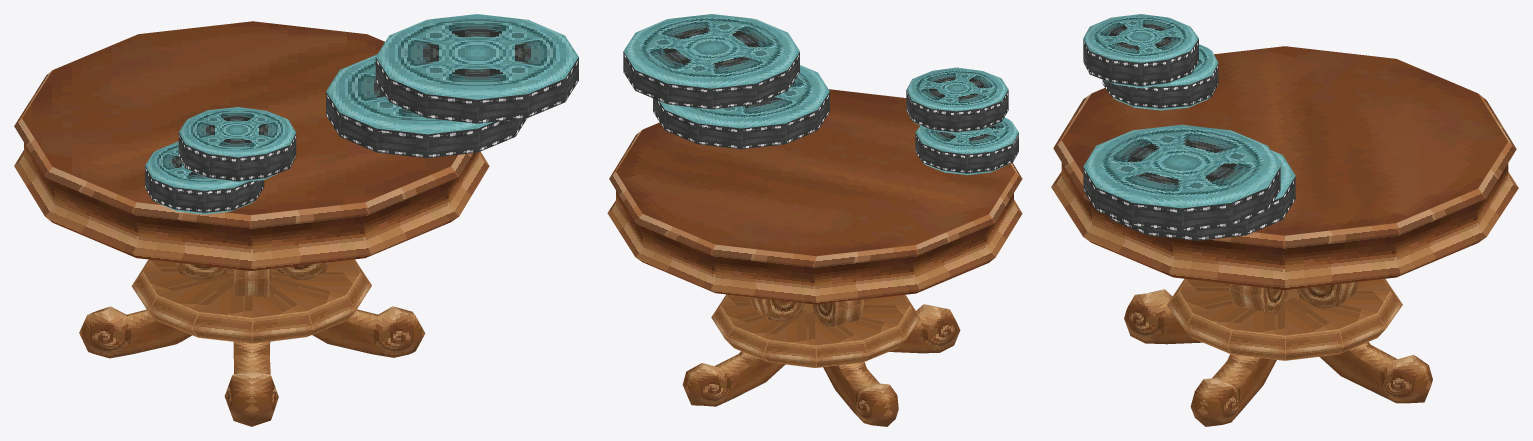
The model's file is desk13.glb.
3 renders of one model, left to right at view 1: azimuth 30°, elevation 25°; view 2: azimuth 150°, elevation 25°; view 3: azimuth 270°, elevation 25°, orthographic. The views are drawn at different scales.
Visible parts, largest first — view 1: desk13; view 2: desk13; view 3: desk13.
Boxes of the visible parts, bbox=[...] form: desk13: bbox=[14, 14, 578, 426]; desk13: bbox=[607, 14, 1022, 426]; desk13: bbox=[1051, 14, 1518, 426].
Size of the model in its own units: 245 by 149 by 218.
6 materials, 6 textured.
